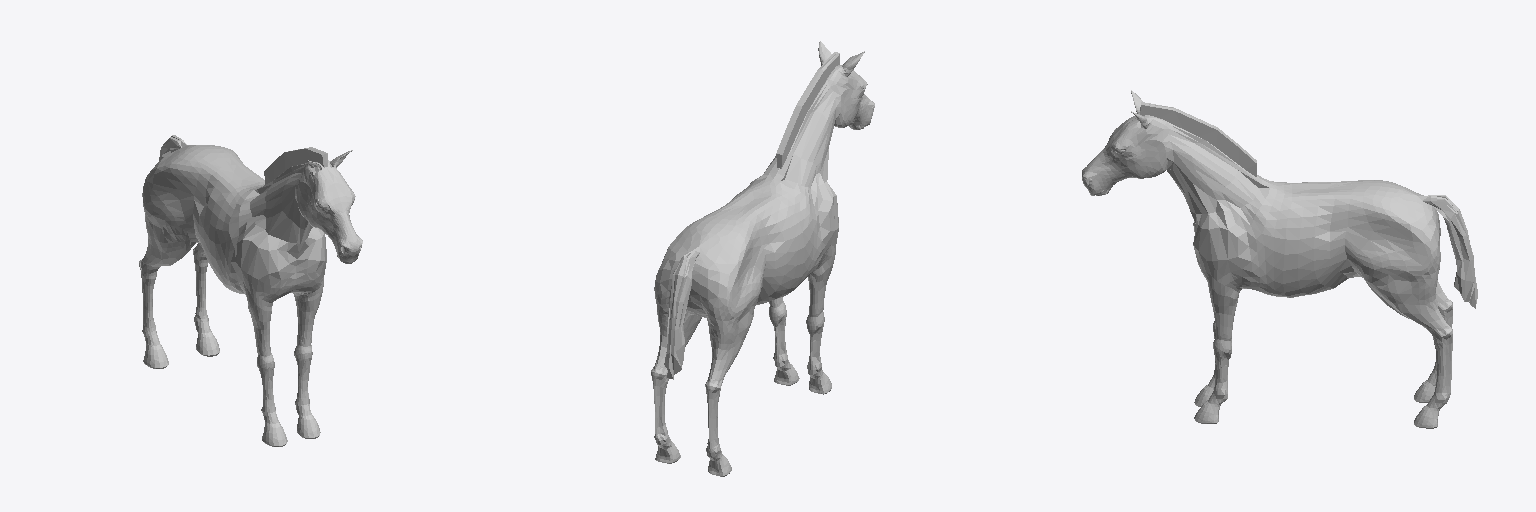
Rendered from ZEBRA.OBJ.
3 views of the same model, side by side, from view 1: azimuth 30°, elevation 25°; view 2: azimuth 150°, elevation 25°; view 3: azimuth 270°, elevation 25° (orthographic).
Visible parts, largest first — view 1: zeb_body; view 2: zeb_body; view 3: zeb_body.
Boxes of the visible parts, x1=… form: zeb_body: x1=139, y1=135, x2=362, y2=446; zeb_body: x1=651, y1=41, x2=874, y2=476; zeb_body: x1=1082, y1=90, x2=1477, y2=428.
Bounding box in the file's own units: 0.5293 × 1.91 × 2.2.